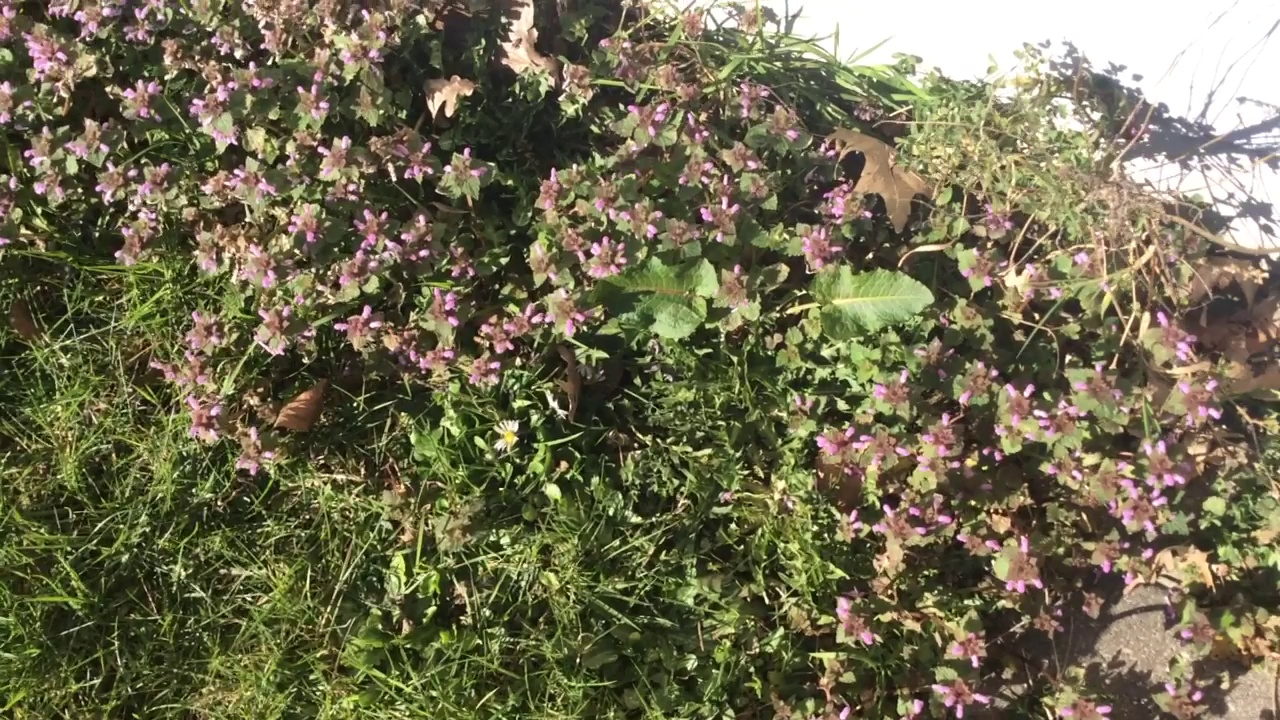rumex: (576, 261, 935, 339)
